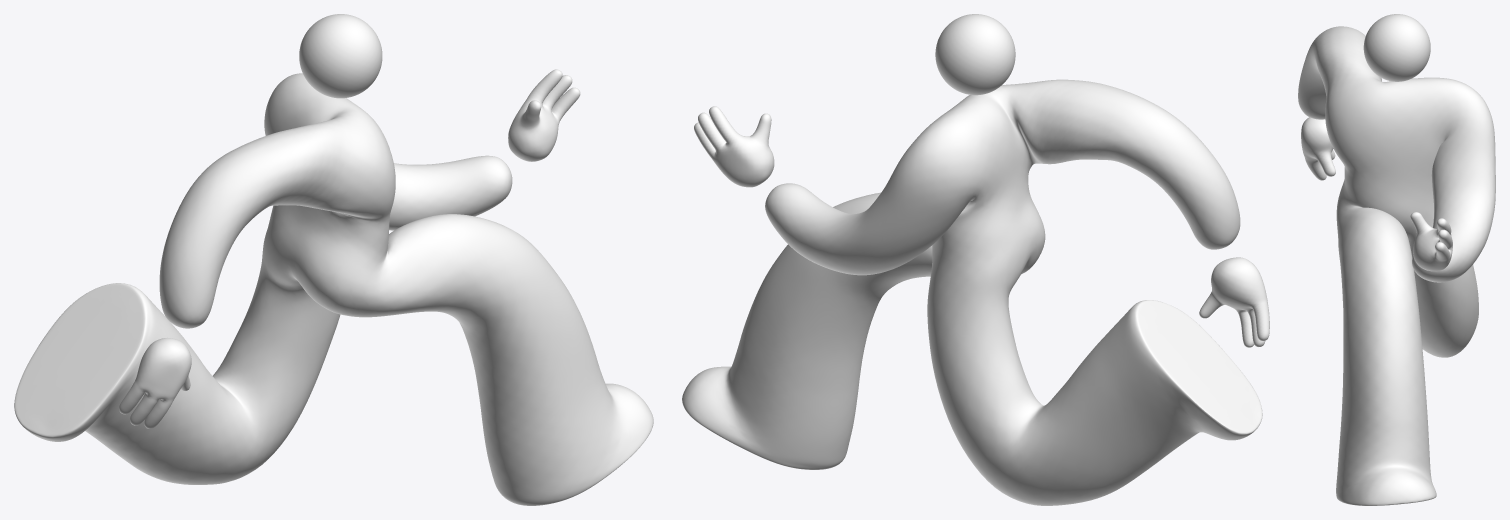
File: K1-man1.gltf
The picture shows the model from 3 angles, left to right: view 1: azimuth 30°, elevation 25°; view 2: azimuth 150°, elevation 25°; view 3: azimuth 270°, elevation 25°; orthographic projection. The views are drawn at different scales.
Visible parts, largest first — view 1: k1-man1; view 2: k1-man1; view 3: k1-man1.
Boxes of the visible parts, x1,y1,x2,y2 form: k1-man1: (14, 14, 653, 505); k1-man1: (682, 14, 1269, 505); k1-man1: (1298, 14, 1495, 505).
Size of the model in its own units: 35.38 by 28.68 by 12.49.
1 material, 1 textured.
